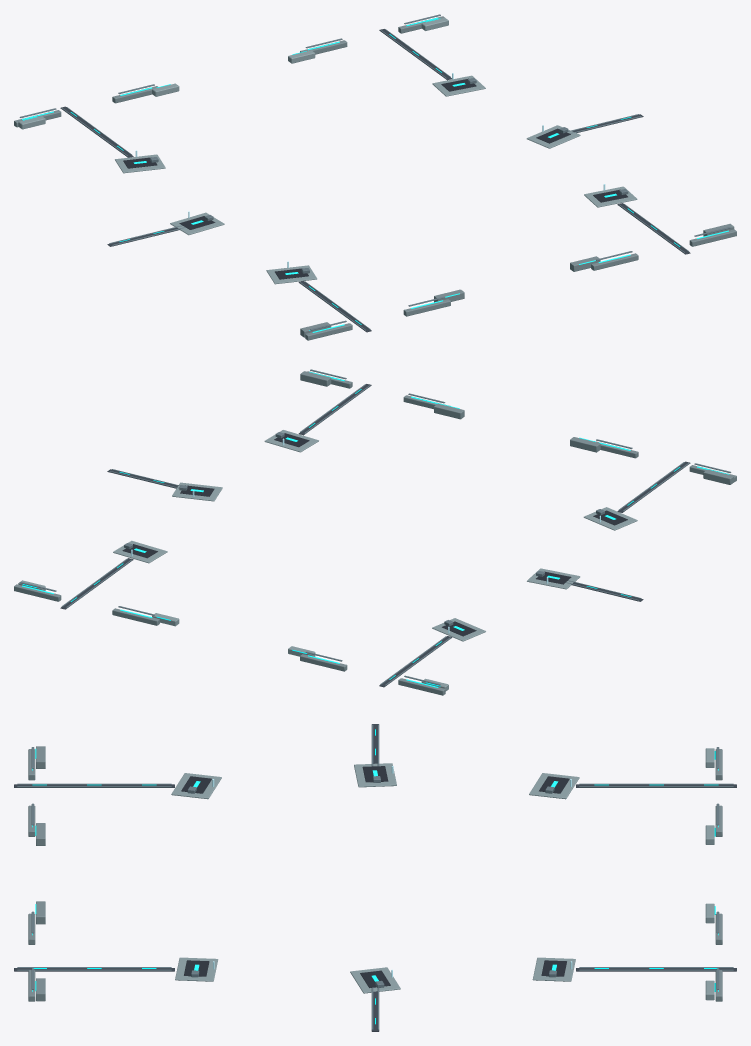
The model's file is sector_1_relay_yard.glb.
3 views of the same model, one above another, from view 1: azimuth 30°, elevation 25°; view 2: azimuth 150°, elevation 25°; view 3: azimuth 270°, elevation 25° (orthographic). The views are drawn at different scales.
Parts seen in each view (by area): view 1: no part large enough to name; view 2: no part large enough to name; view 3: RelayYardNode0RaisedRelayPadBase, RelayYardNode1RaisedRelayPadBase, RelayYardNode5RaisedRelayPadBase, RelayYardNode4RaisedRelayPadBase, RelayYardNode3RaisedRelayPadBase, RelayYardNode2RaisedRelayPadBase.
Part boxes in pixels (left/top/right/bottom): RelayYardNode0RaisedRelayPadBase: left=171, top=773, right=221, bottom=799; RelayYardNode1RaisedRelayPadBase: left=175, top=957, right=218, bottom=981; RelayYardNode5RaisedRelayPadBase: left=532, top=957, right=575, bottom=981; RelayYardNode4RaisedRelayPadBase: left=529, top=773, right=579, bottom=799; RelayYardNode3RaisedRelayPadBase: left=350, top=967, right=400, bottom=993; RelayYardNode2RaisedRelayPadBase: left=354, top=763, right=396, bottom=787.
Bounding box in the file's own units: 56.9 × 0.9175 × 56.6.
